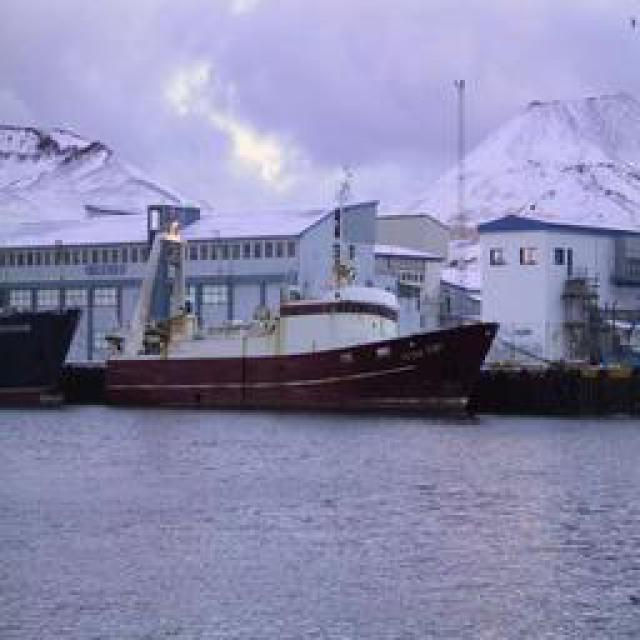Ship: (91, 195, 499, 413)
